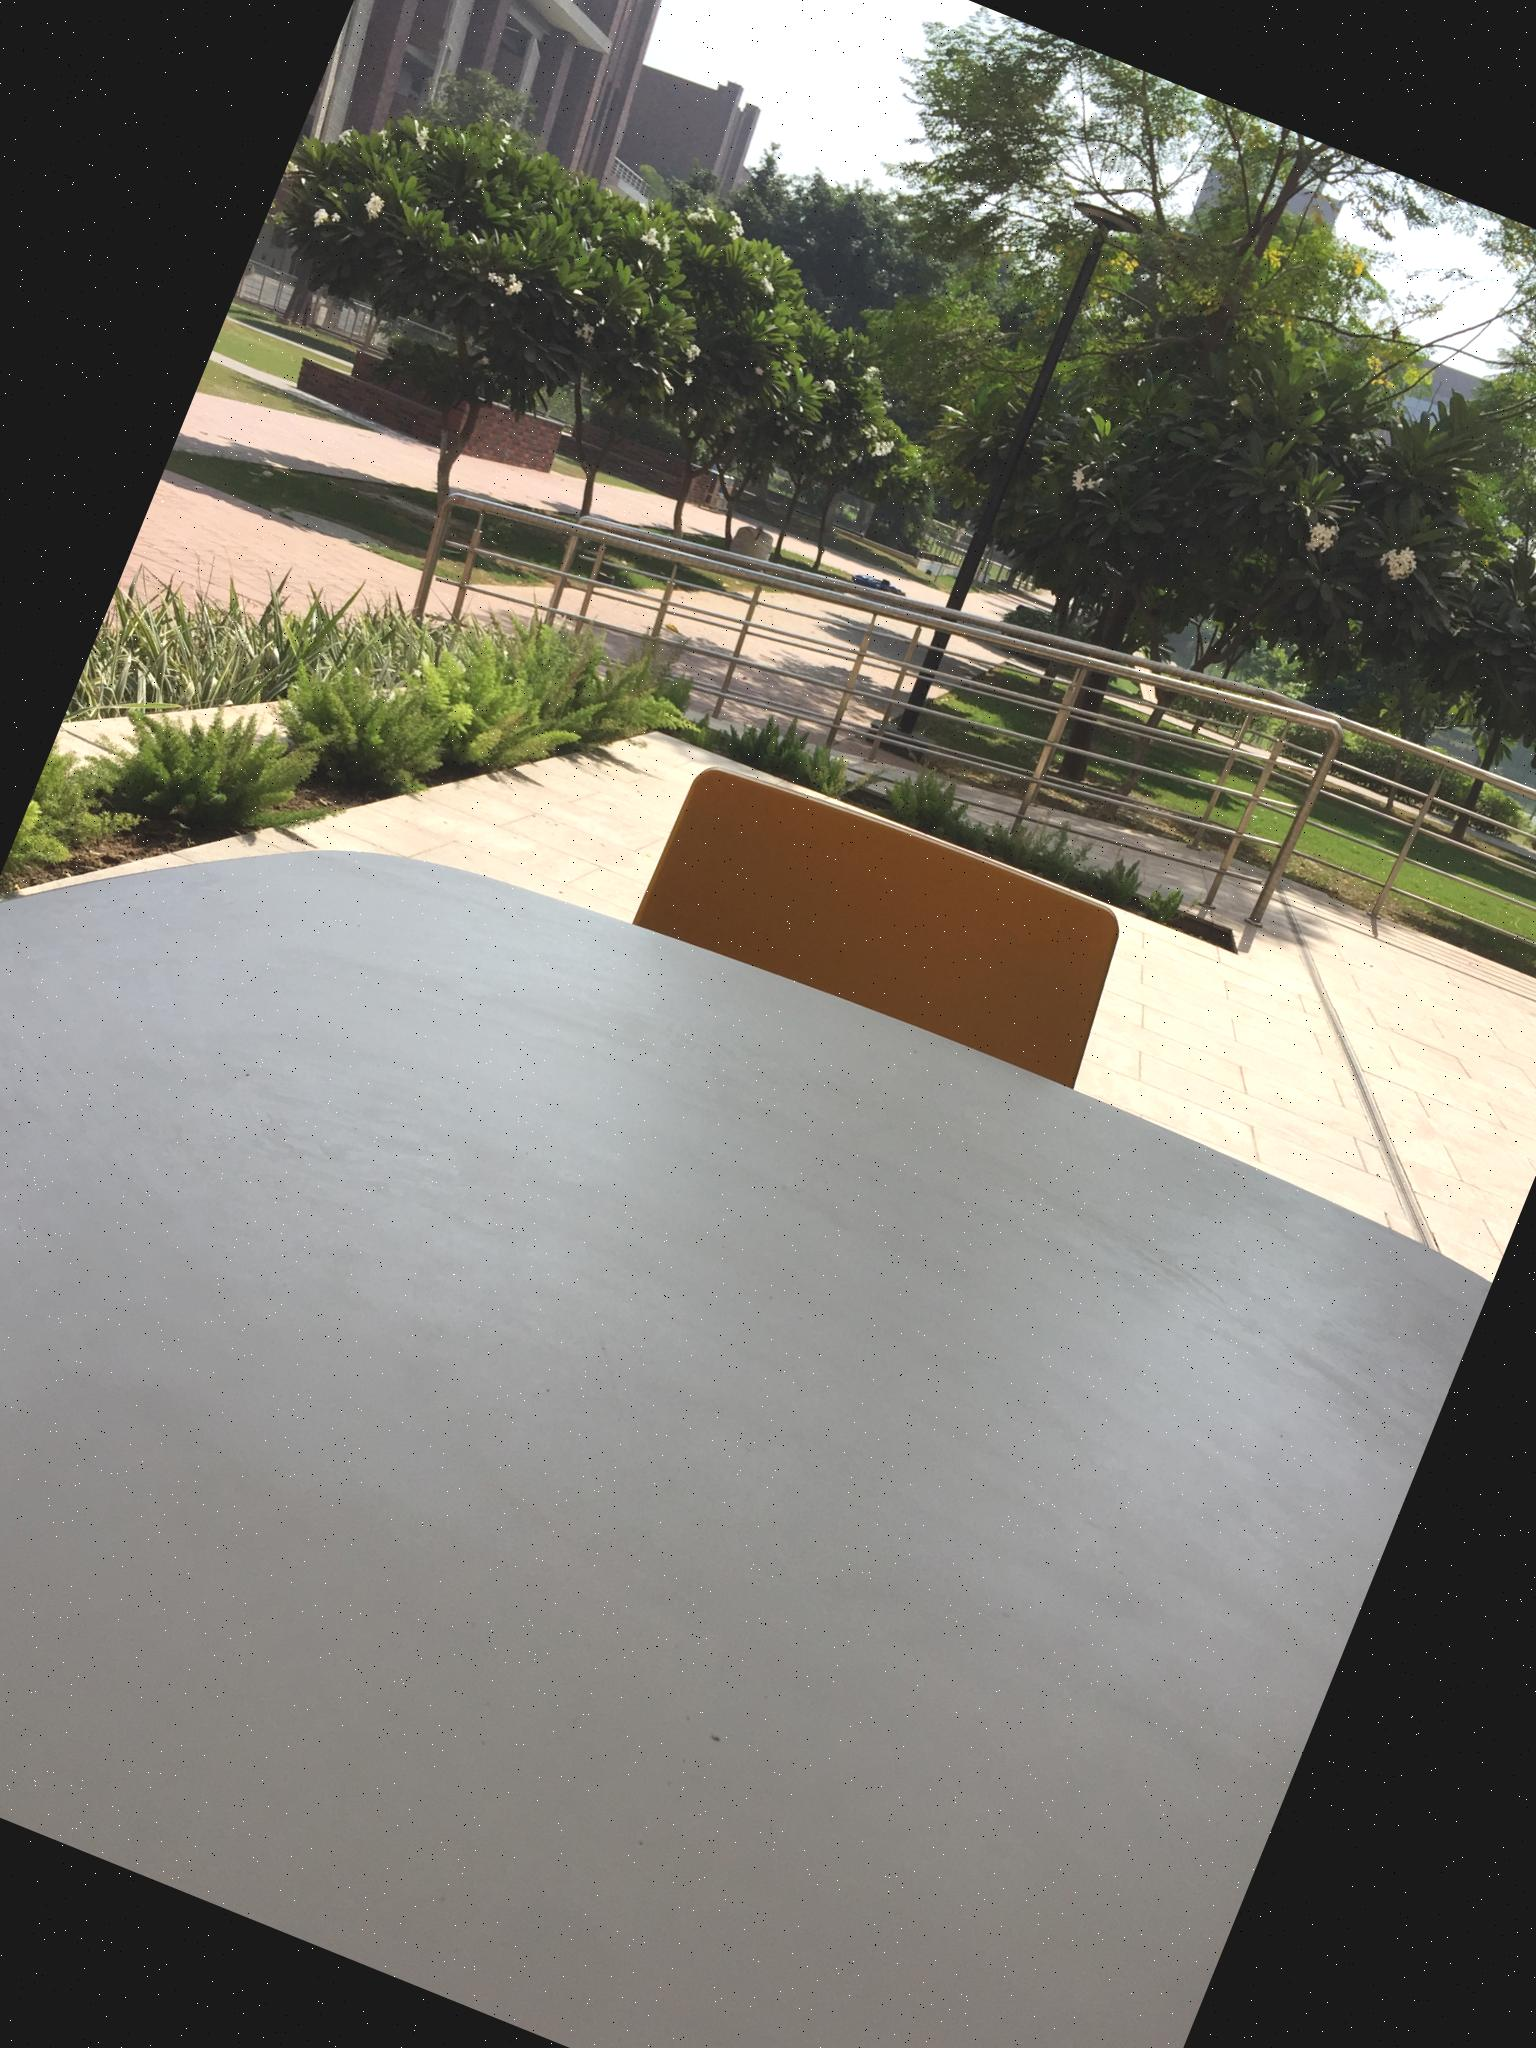chair: (631, 742, 1142, 1098)
